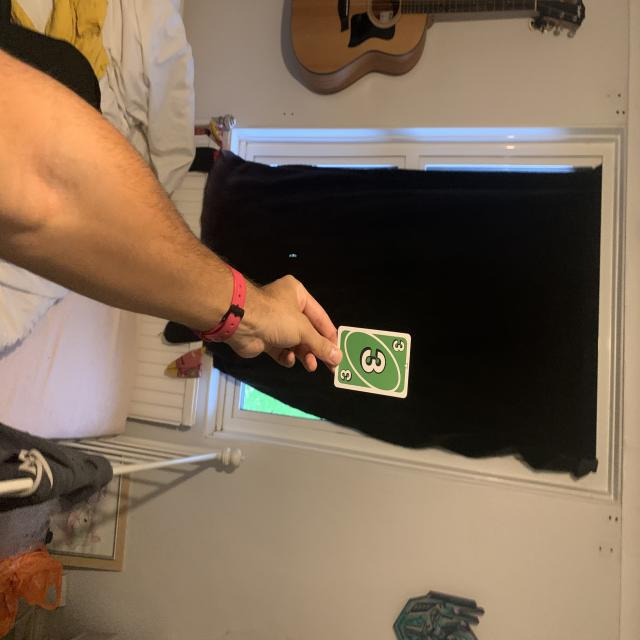lgreen-3: (390, 336, 407, 356)
